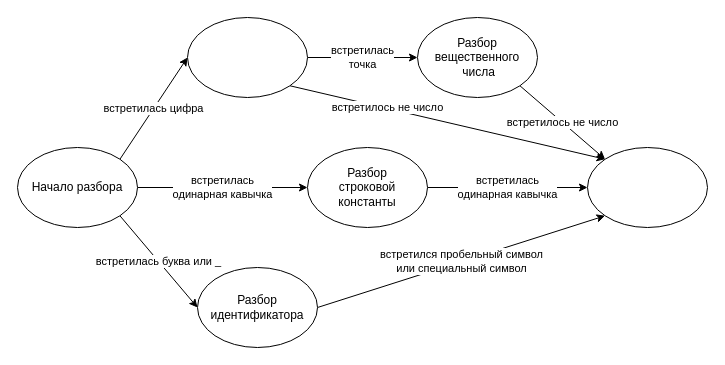
The diagram is 725 pixels wide and 365 high, and some of its shapes have lost their labels. The shapes that lost their labels are listed below. From the top down, each one's centre as x and y in pixels, then its label:
At (247,57): "Разбор целого числа".
At (647,187): "Конец разбора".
